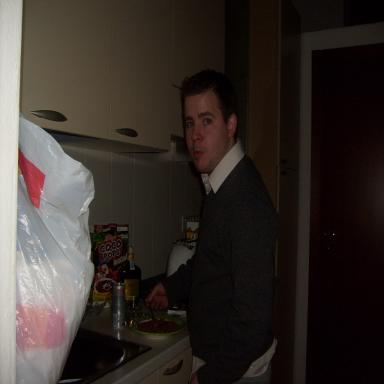plasticbag: (15, 111, 97, 383)
